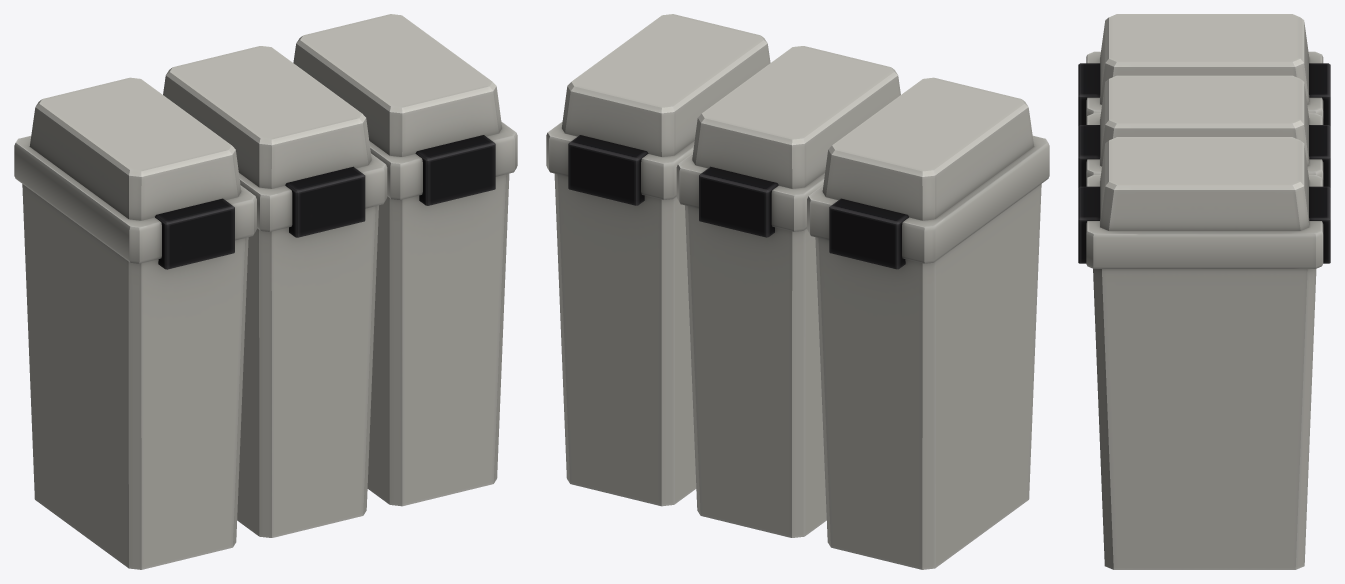
Rendered from sb_obj_ModernCity044_dustbox_c.fbx.
3 renders of one model, left to right at view 1: azimuth 30°, elevation 25°; view 2: azimuth 150°, elevation 25°; view 3: azimuth 270°, elevation 25°, orthographic. The views are drawn at different scales.
Visible parts, largest first — view 1: sb_obj_ModernCity044_dustbox_c; view 2: sb_obj_ModernCity044_dustbox_c; view 3: sb_obj_ModernCity044_dustbox_c.
Part boxes in pixels (bbox=[...]): sb_obj_ModernCity044_dustbox_c: bbox=[14, 14, 517, 569]; sb_obj_ModernCity044_dustbox_c: bbox=[546, 14, 1049, 569]; sb_obj_ModernCity044_dustbox_c: bbox=[1078, 14, 1330, 569].
Size of the model in its own units: 0.5953 by 0.581 by 0.3463.
